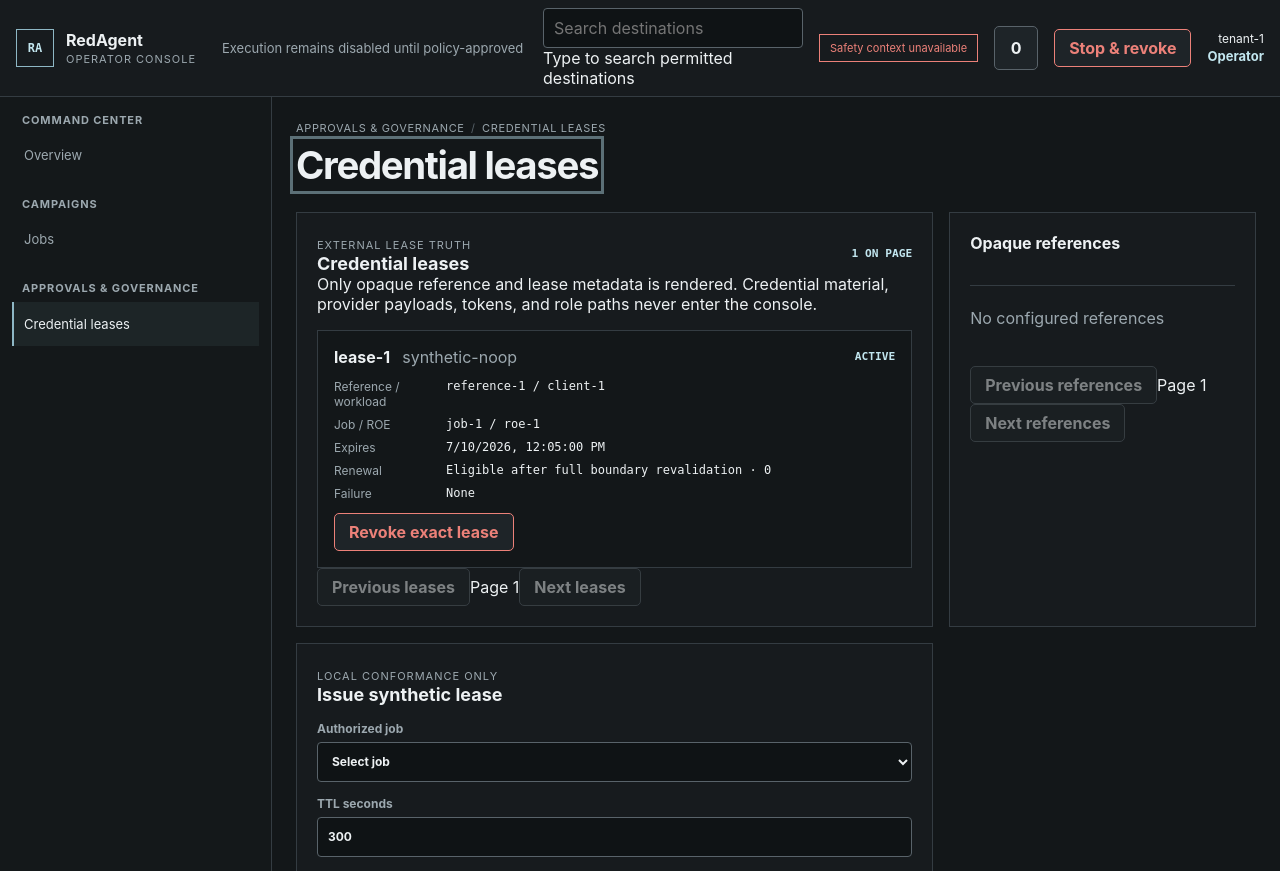
Test case: credential lease console › renders metadata-only state and performs an exact revoke
Check: the text "lease-1" is shown, box [334, 347, 390, 367]
Check: the text "active" is shown, box [855, 351, 895, 362]
Click the button "Revoke exact lease" at (424, 532), box [334, 513, 514, 551]
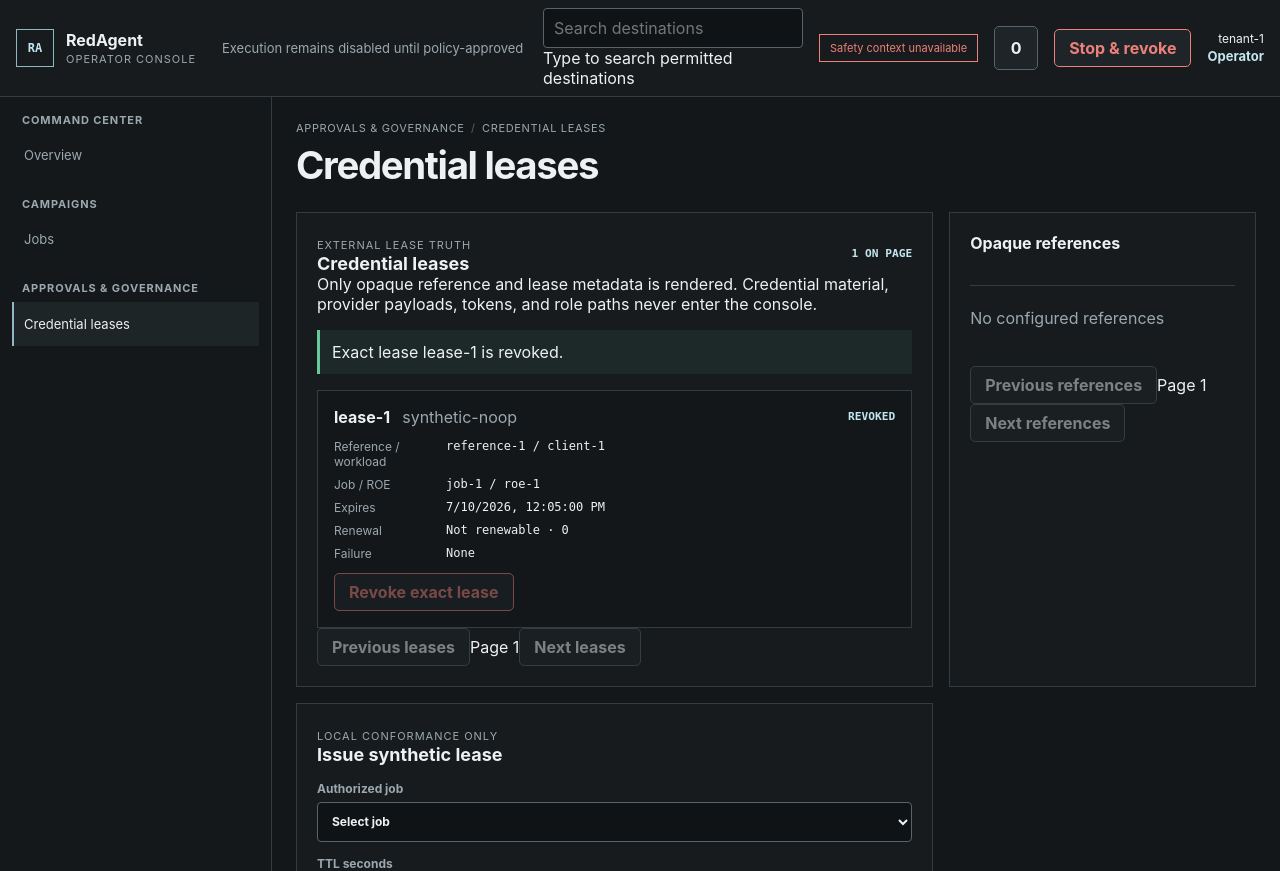
Check: the text "revoked" is shown, box [848, 411, 895, 422]
